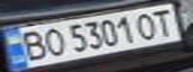0: (100, 17, 121, 47)
1: (115, 14, 139, 44)
3: (81, 18, 103, 51)
5: (63, 20, 87, 53)
B: (12, 28, 51, 62)
O: (36, 26, 69, 57), (133, 10, 163, 40)
T: (148, 7, 181, 37)
